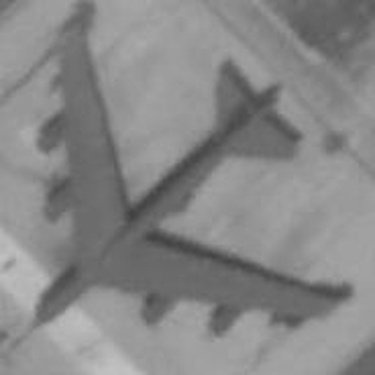airplane: (26, 8, 355, 354)
